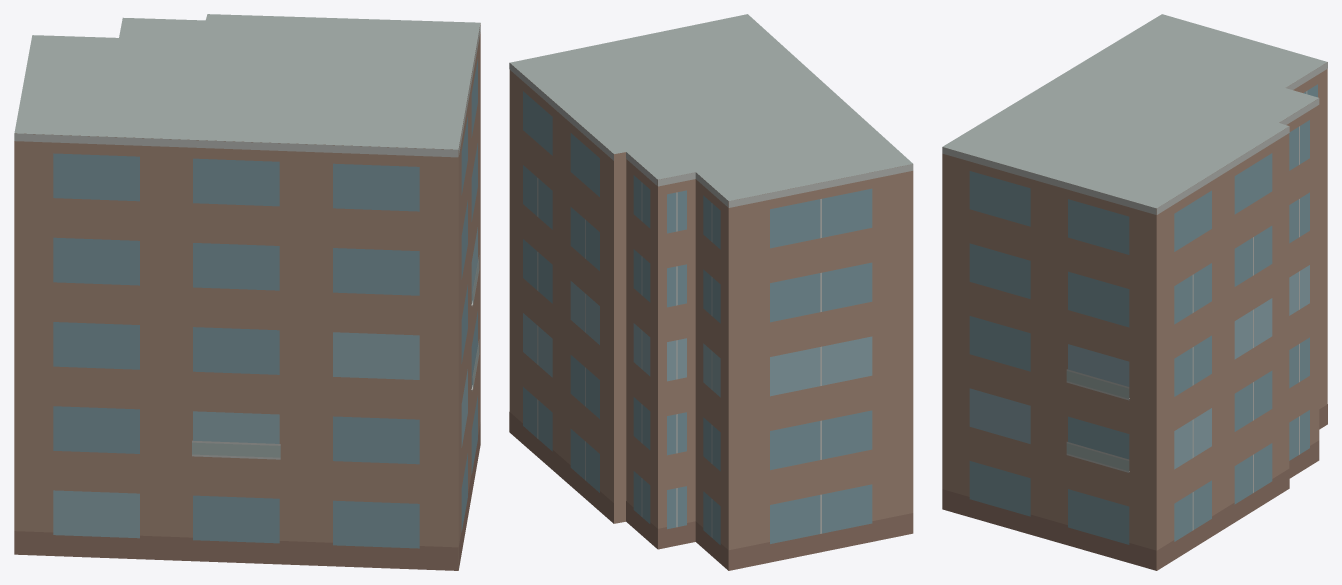
The model's file is survey-upis-32997229.glb.
The picture shows the model from 3 angles, left to right: view 1: azimuth 30°, elevation 25°; view 2: azimuth 150°, elevation 25°; view 3: azimuth 270°, elevation 25°; orthographic projection. The views are drawn at different scales.
Parts seen in each view (by area): view 1: survey-upis-32997229.tmp; view 2: survey-upis-32997229.tmp; view 3: survey-upis-32997229.tmp.
Part boxes in pixels (x1,y1,x2,y2): survey-upis-32997229.tmp: (14,14,480,570); survey-upis-32997229.tmp: (509,14,913,570); survey-upis-32997229.tmp: (942,14,1327,570).
Bounding box in the file's own units: 15.2 × 13.2 × 12.73.
